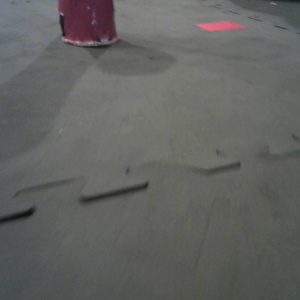middle: (56, 1, 122, 49)
